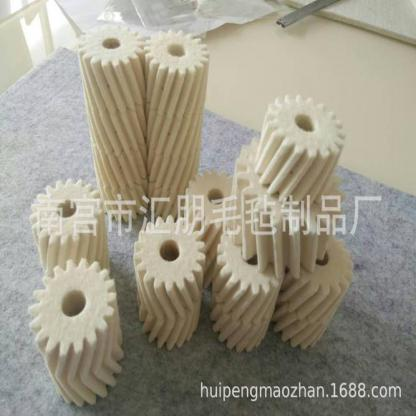FOD: (29, 254, 124, 378), (254, 88, 347, 198)
